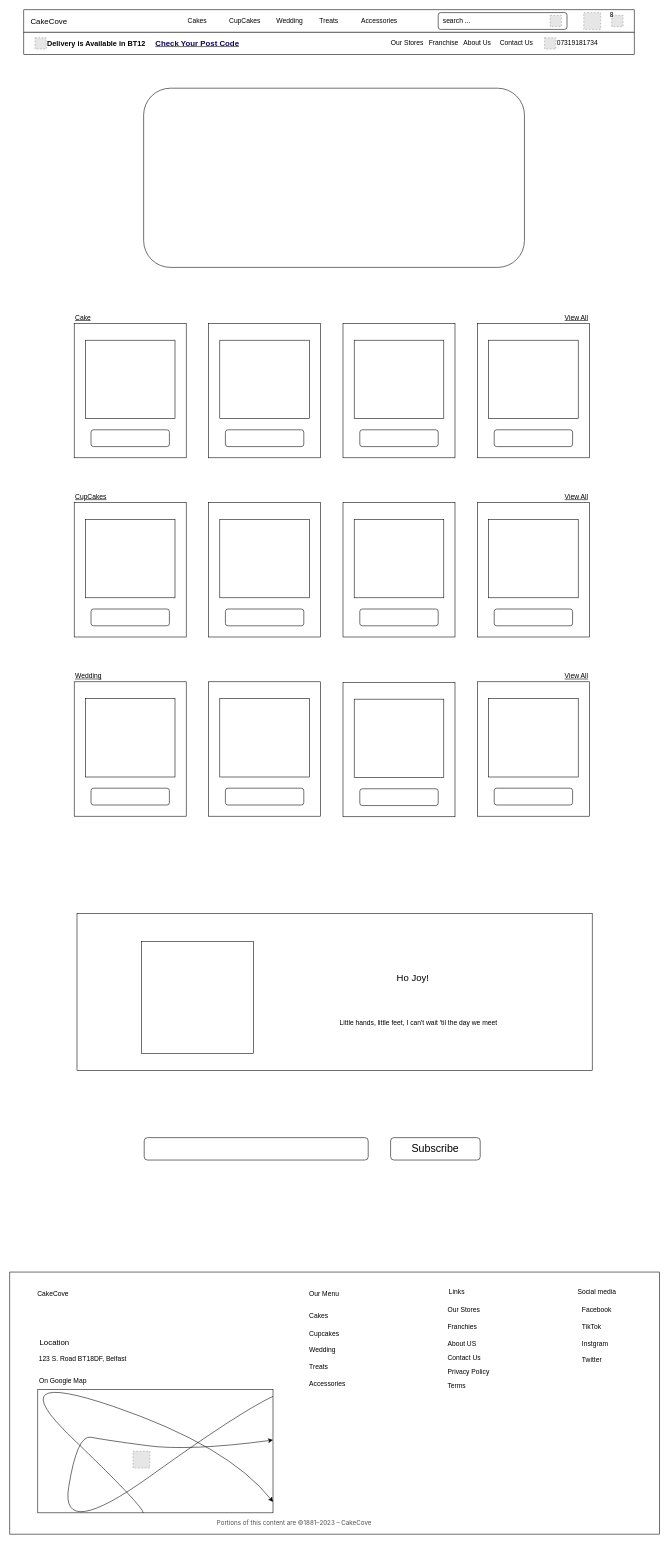
The diagram is 669 pixels wide and 1544 high, and some of its shapes have lost their labels. Grey dashed boxes stand in for pictures. The centre of each missing label's shape, as x and y in pixels:
"New baby Cake" goes at (197,997).
"Subscribe to Our News Letter" goes at (256,1148).
